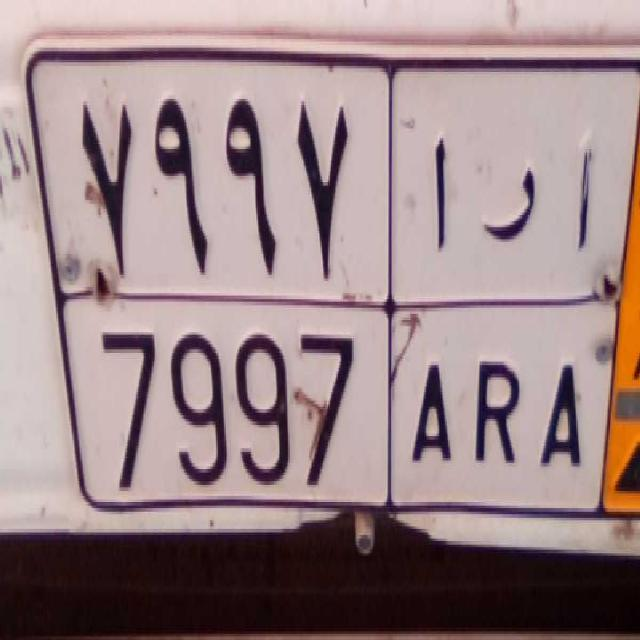license_plate: (80, 281, 608, 537)
